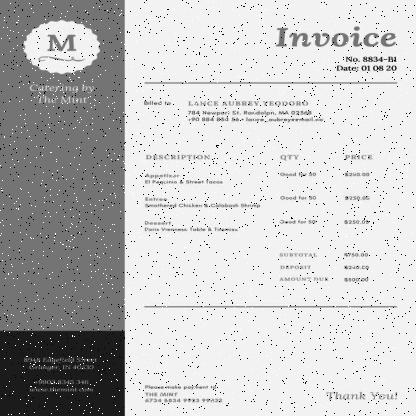Paragraph: (272, 24, 399, 73), (141, 98, 326, 124), (21, 352, 101, 396), (274, 250, 372, 284), (140, 383, 226, 405), (27, 82, 97, 106), (323, 388, 401, 402)
Table: (140, 152, 378, 234)
